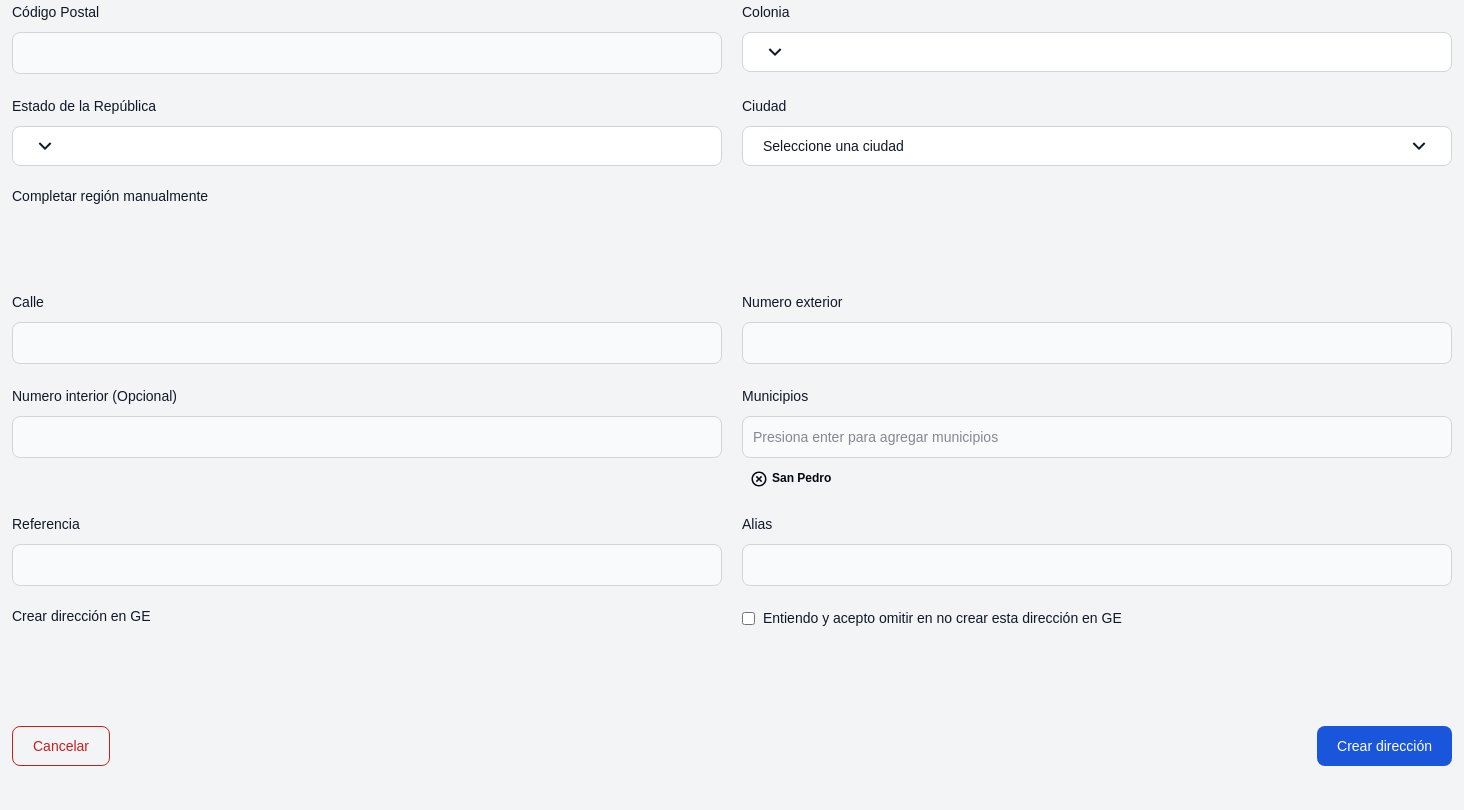
Scenario: Feature: Create Address Subform › Scenario: User can add and remove towns tags › Given a town tag exists, When the user removes it, Then it should disappear from the list
The image size is (1464, 810).
Expected: the text "San Pedro" is shown, [750,470,831,488]
What coordinates should you click on to do the following:
click the button without text next to "San Pedro"
I would click on:
 (759, 479)
Its box is [750,470,768,488].
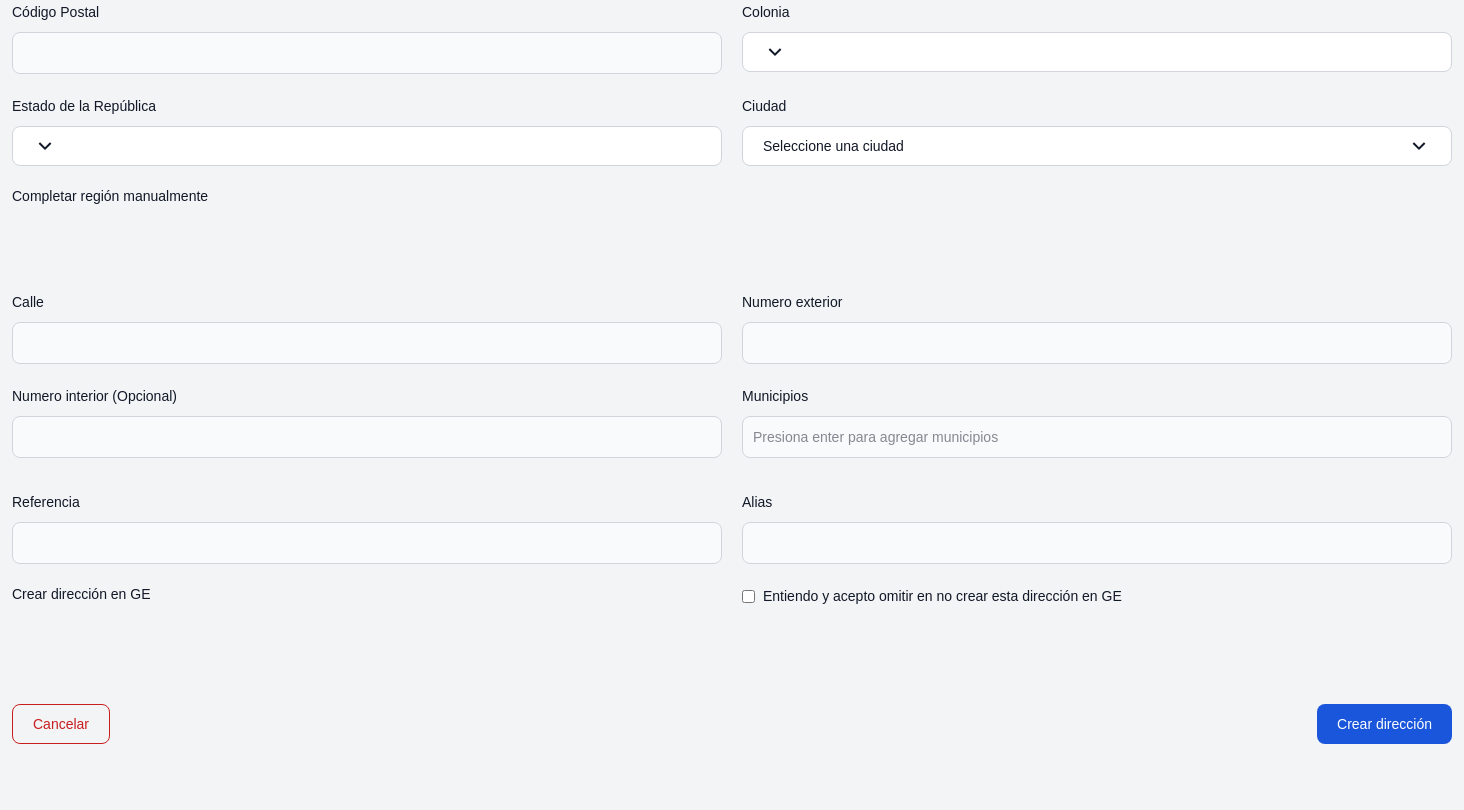
Expected: the text "San Pedro" is gone
